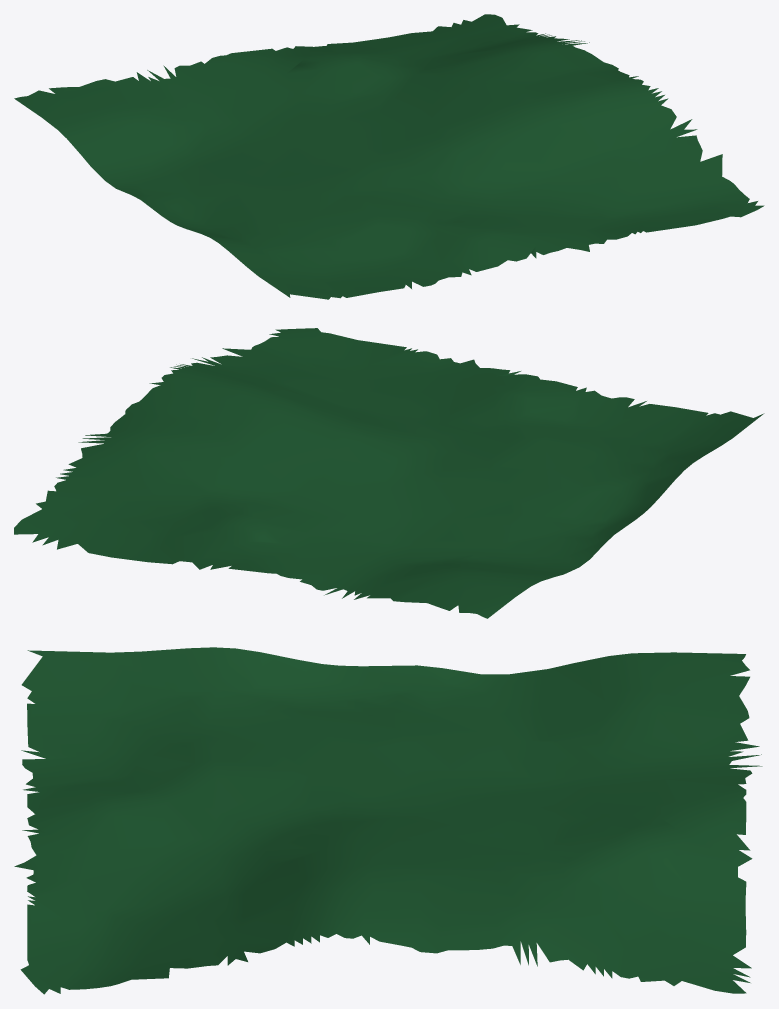
Rendered from payo_land_xm4_ym2_lod2.glb.
The picture shows the model from 3 angles, top to bottom: view 1: azimuth 30°, elevation 25°; view 2: azimuth 150°, elevation 25°; view 3: azimuth 270°, elevation 25°; orthographic projection. The views are drawn at different scales.
Visible parts, largest first — view 1: payo_land_xm4_ym2; view 2: payo_land_xm4_ym2; view 3: payo_land_xm4_ym2.
Part boxes in pixels (bbox=[...]): payo_land_xm4_ym2: bbox=[14, 14, 764, 299]; payo_land_xm4_ym2: bbox=[14, 328, 764, 618]; payo_land_xm4_ym2: bbox=[14, 647, 762, 994].
Size of the model in its own units: 264 by 25.11 by 269.
